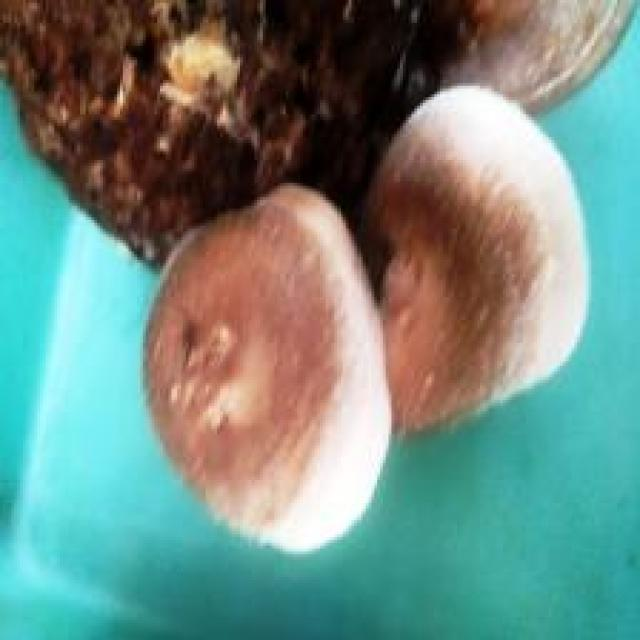chanterelle: (0, 0, 637, 554)
death-cap: (137, 180, 394, 554)
